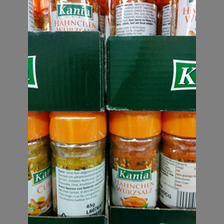spices: (50, 112, 107, 216), (109, 110, 161, 208), (160, 111, 197, 209)
